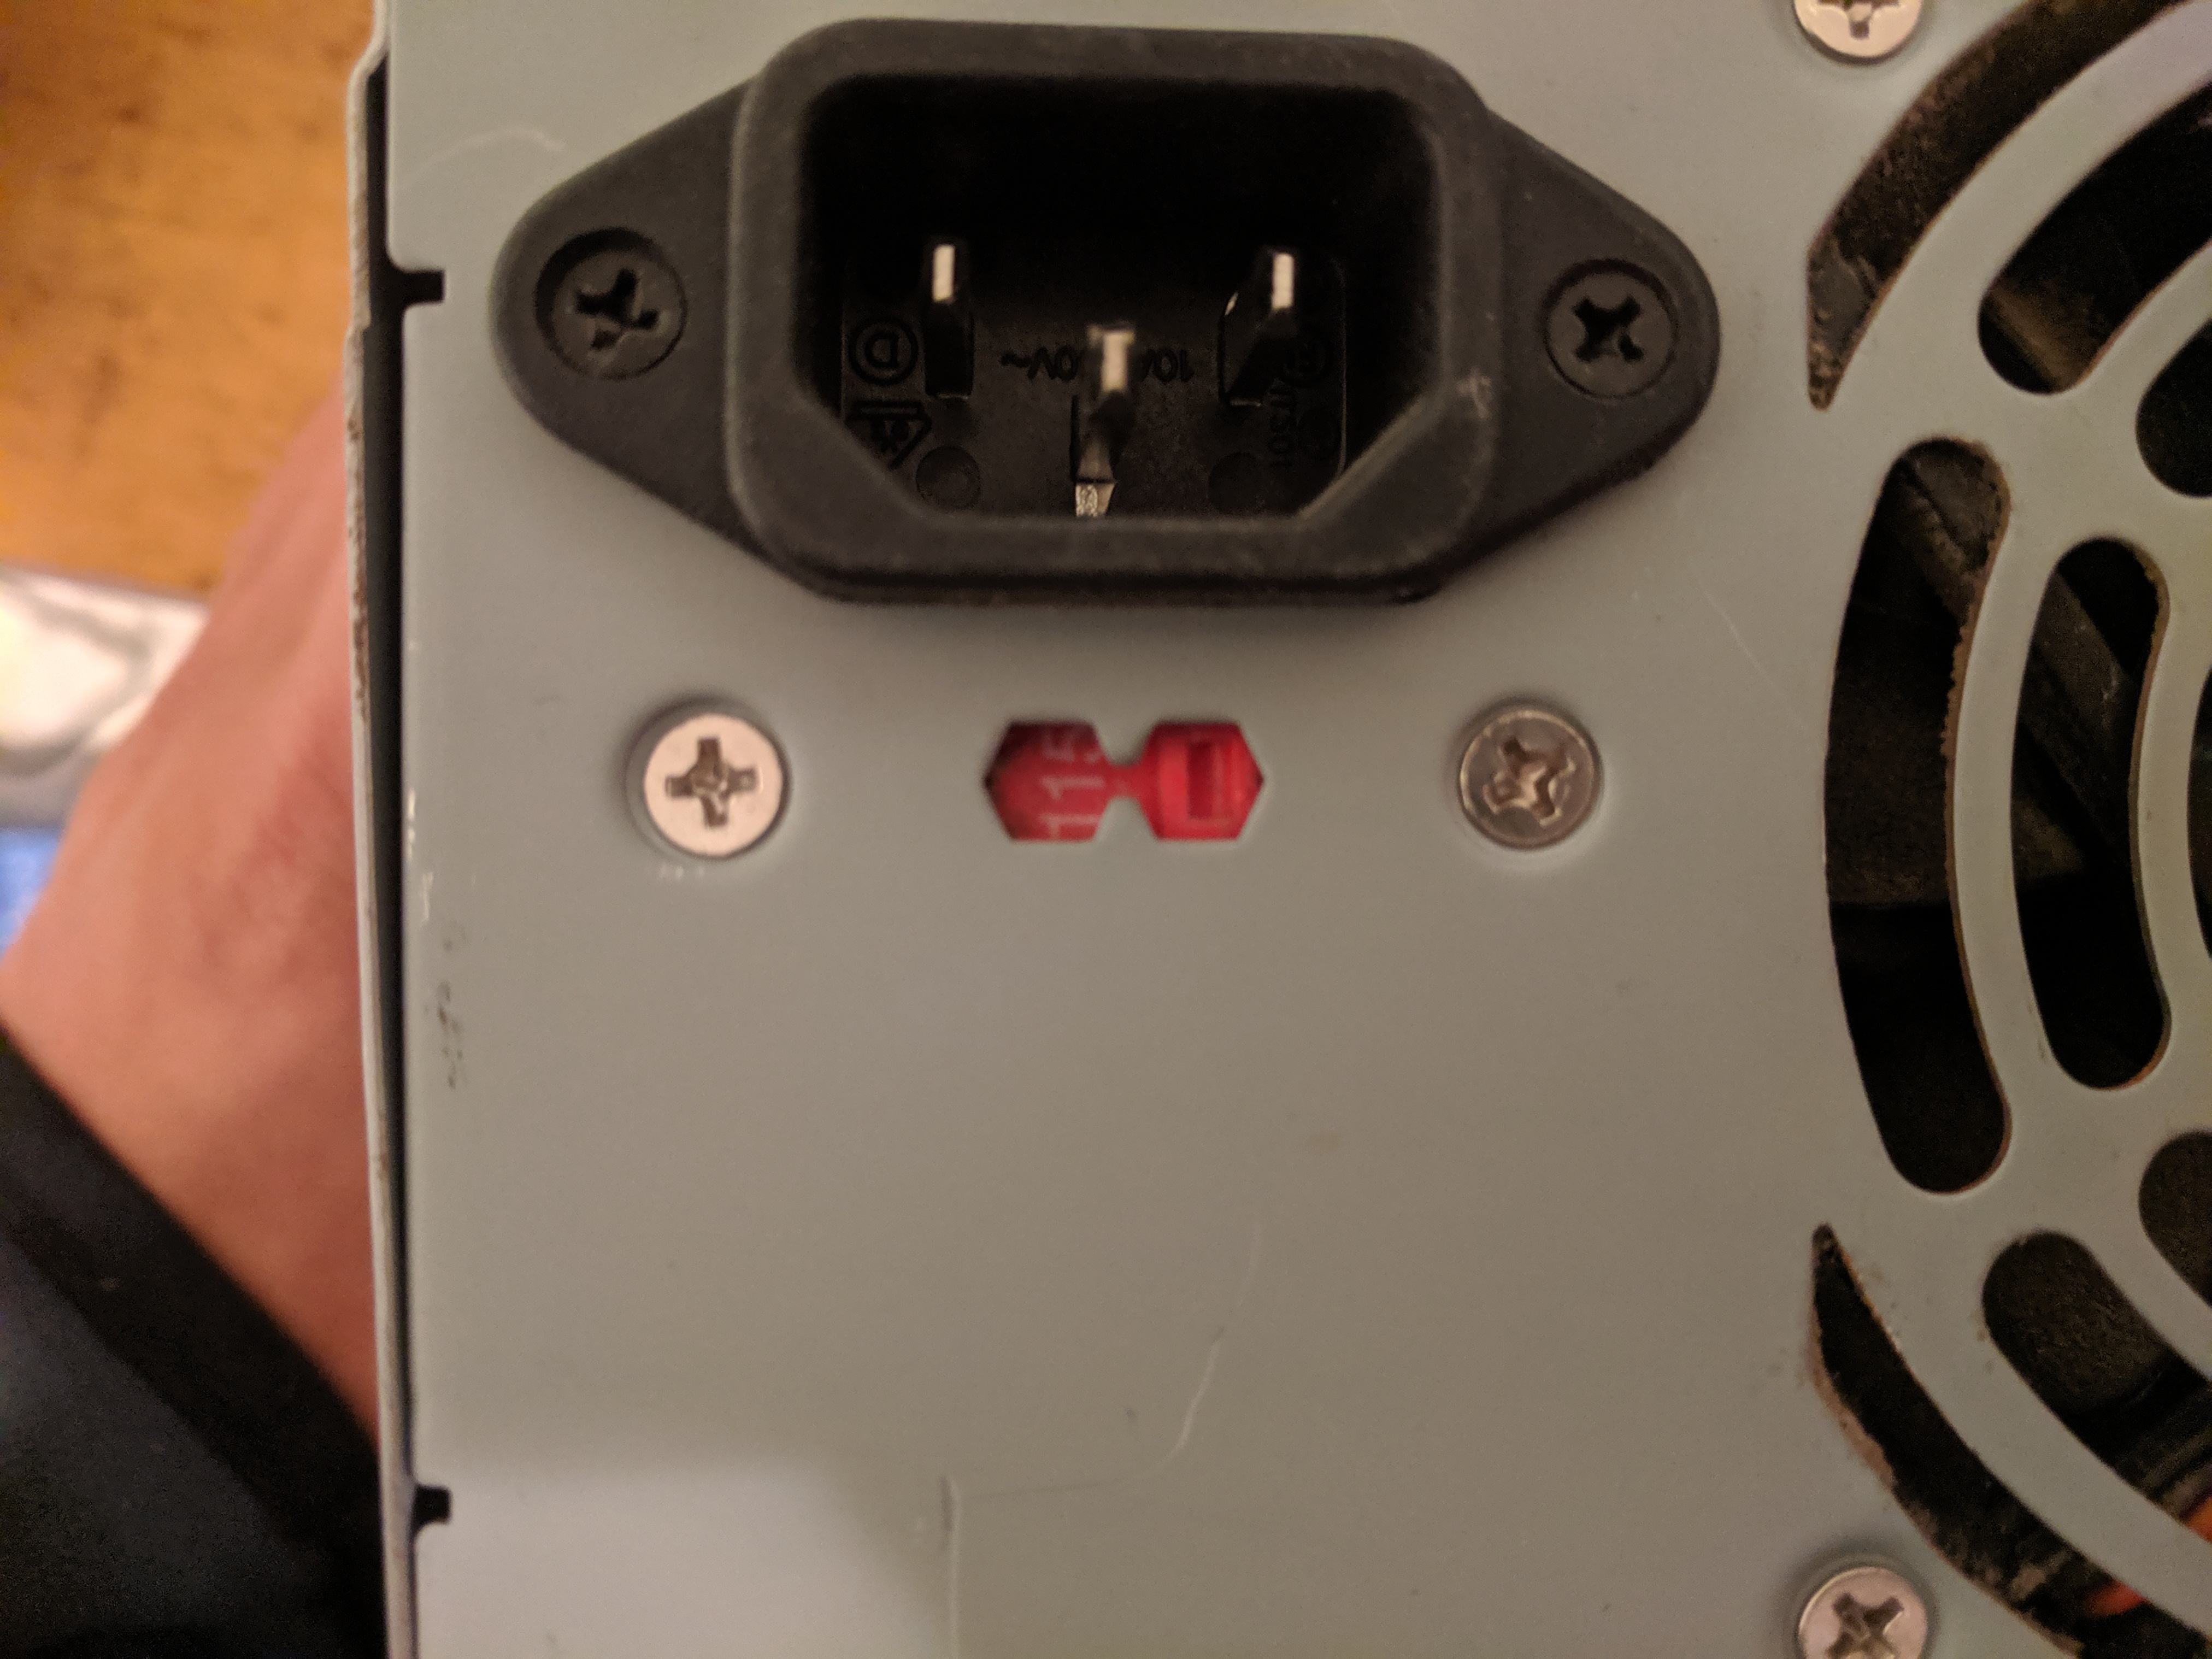cross_recessed_screw: (1503, 227, 1707, 416), (613, 685, 806, 866), (509, 216, 702, 392), (1446, 681, 1609, 859), (1778, 1542, 1949, 1656)
